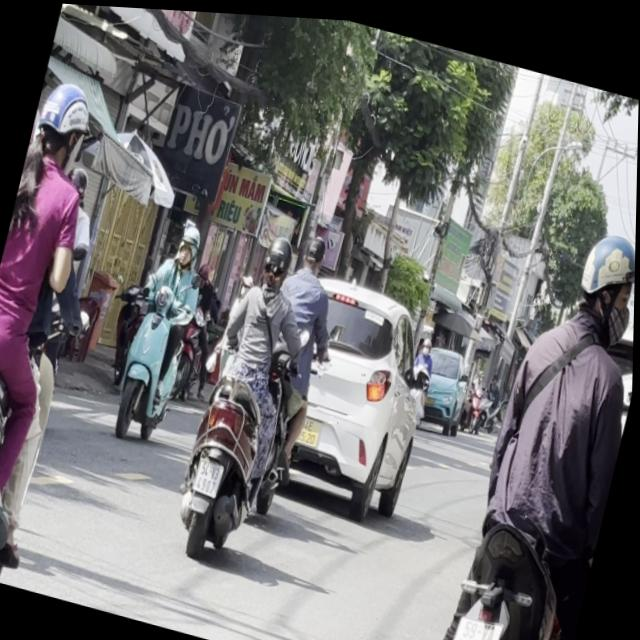helmet: (568, 216, 637, 330), (25, 72, 99, 176), (257, 227, 296, 286), (173, 216, 204, 266)
licenseplate: (412, 188, 637, 640), (0, 67, 134, 591), (162, 209, 327, 570), (223, 215, 354, 537), (106, 206, 216, 446)
motorcyclist: (297, 228, 330, 275)
nohelmet: (450, 605, 503, 640), (192, 453, 226, 494)
